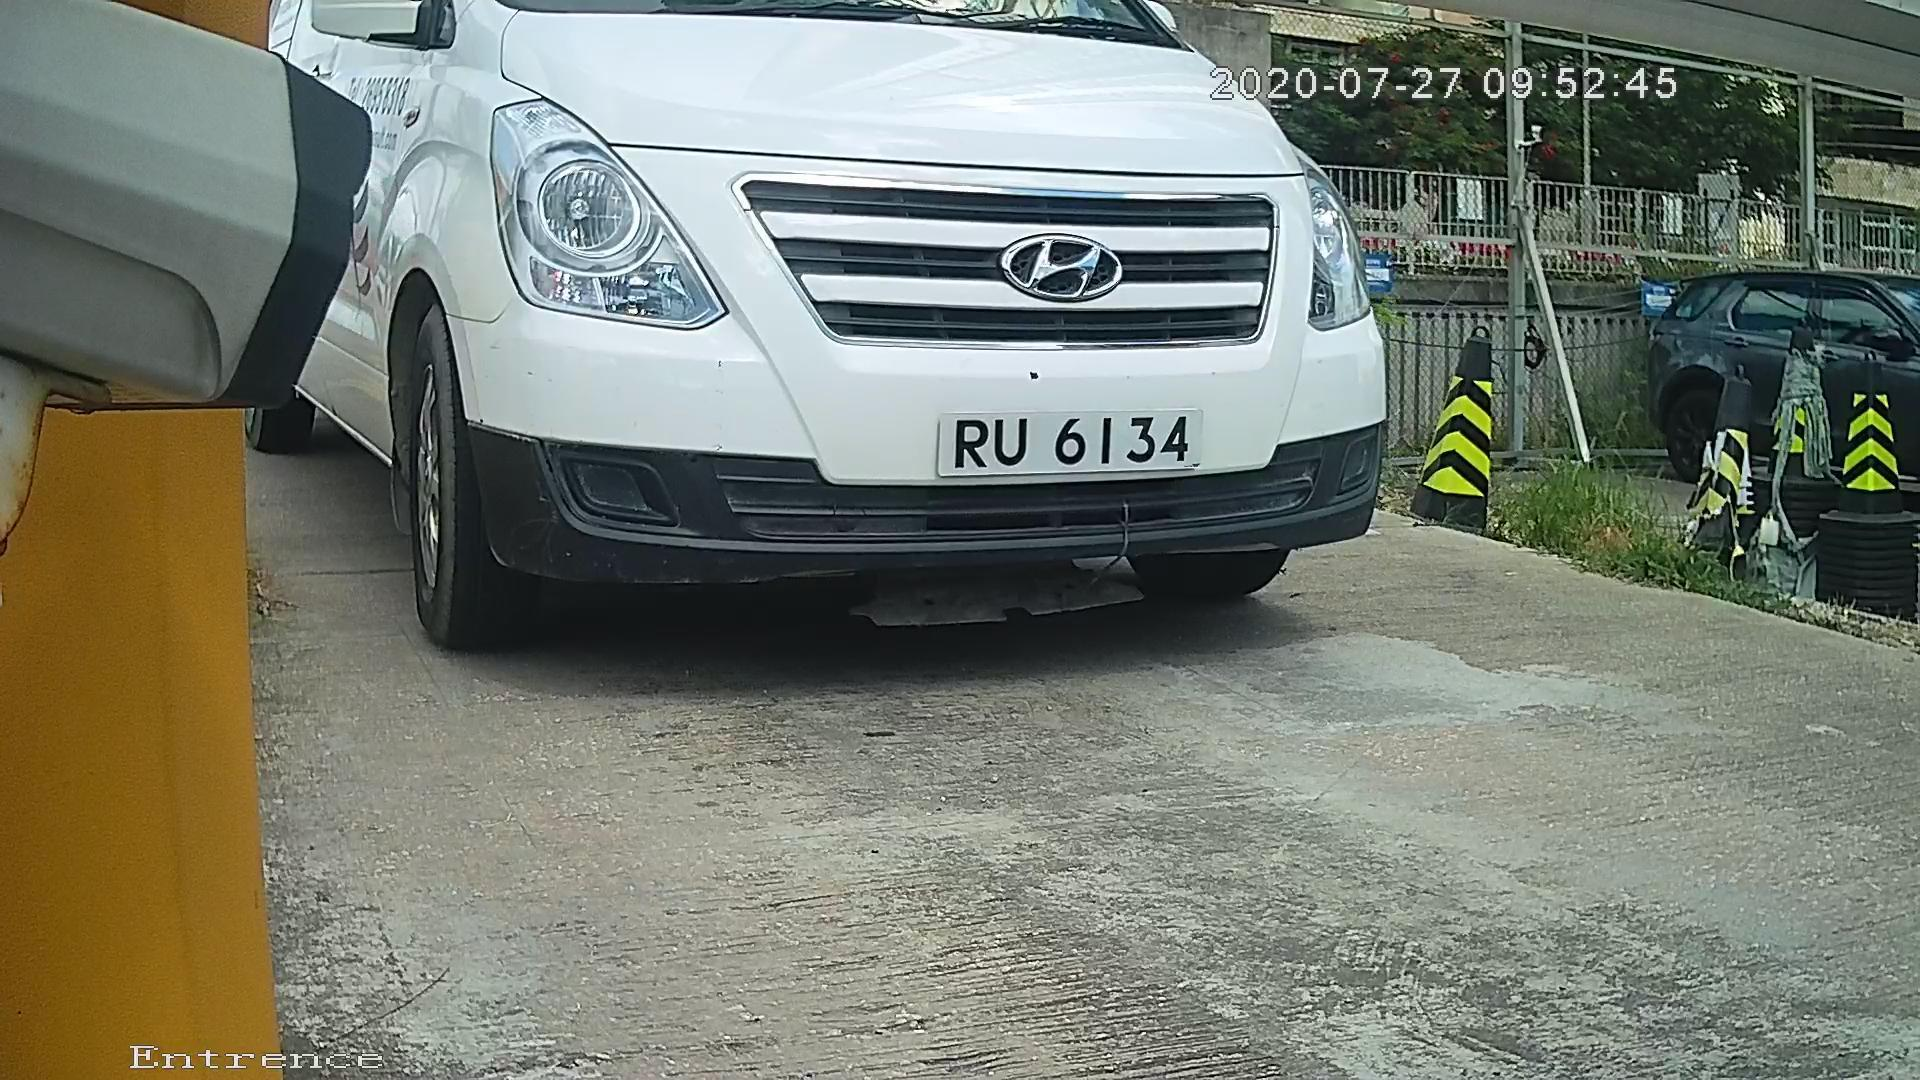License Plate: (883, 386, 1235, 497)
